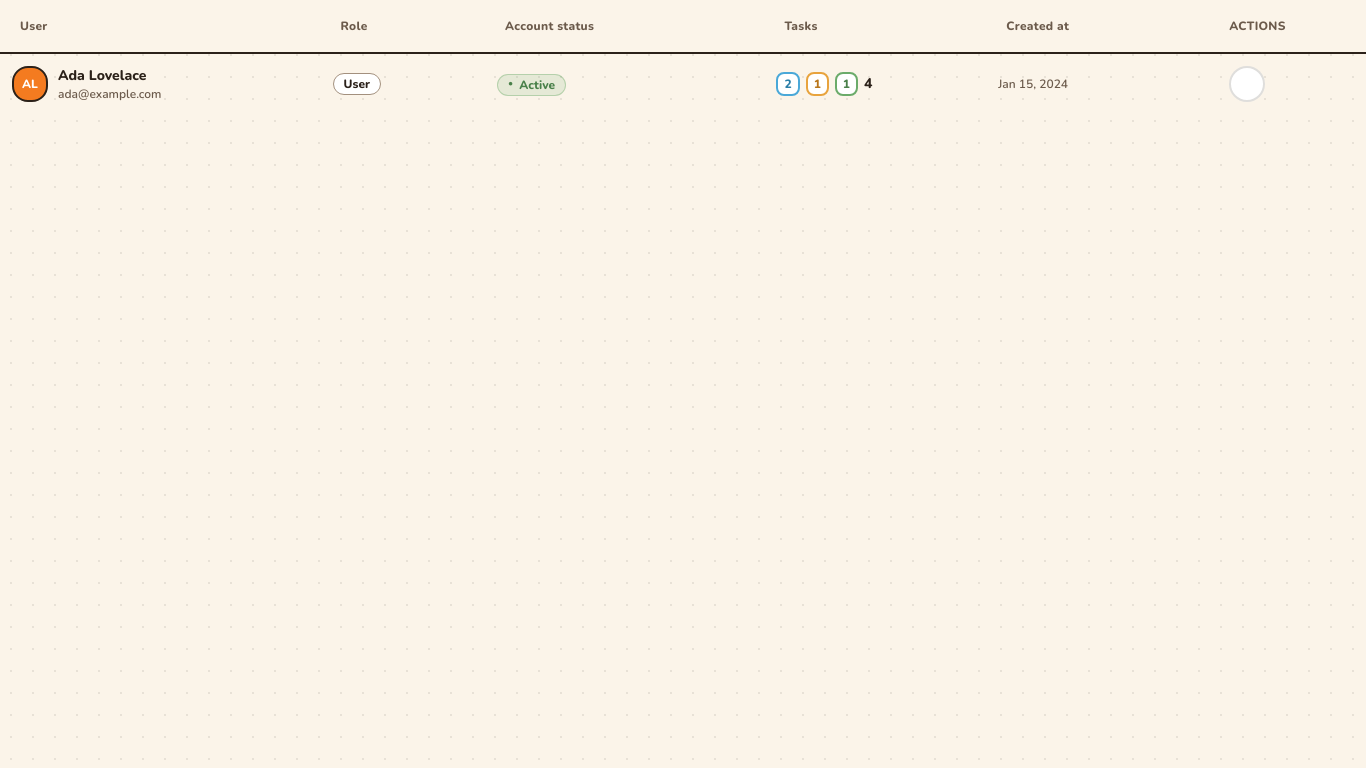
Test case: the users table › keeps the actions behind a kebab menu until it is opened
The image size is (1366, 768).
Click the button named "Actions for Ada Lovelace".
click(1247, 84)  # box [1229,66,1265,102]
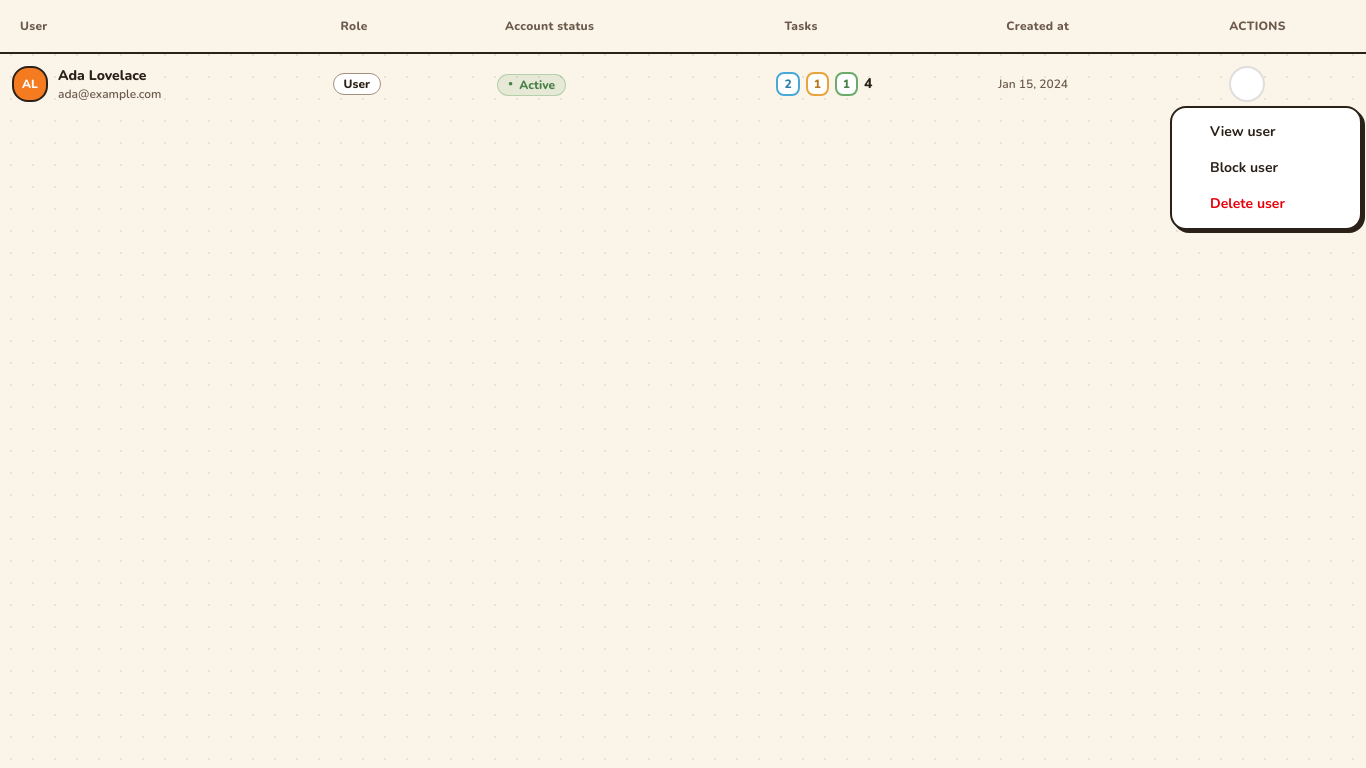
Expected: the menu item "View user" is shown, [1172,114,1360,150]
Expected: the menu item "Block user" is shown, [1172,150,1360,186]
Expected: the menu item "Delete user" is shown, [1172,186,1360,222]
